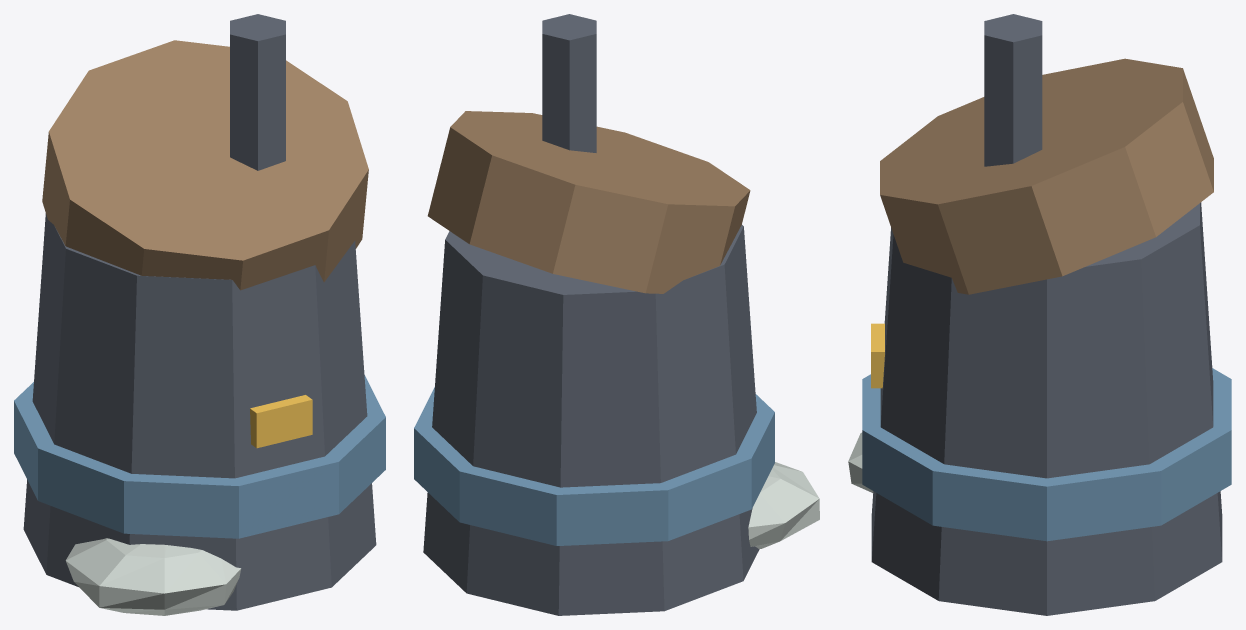
Rendered from sensor_housing.glb.
3 renders of one model, left to right at view 1: azimuth 30°, elevation 25°; view 2: azimuth 150°, elevation 25°; view 3: azimuth 270°, elevation 25°, orthographic. The views are drawn at different scales.
Visible parts, largest first — view 1: DL010_SensorHousing_metal_dark, DL010_SensorHousing_corrosion, DL010_SensorHousing_faded_blue, DL010_SensorHousing_mineral, DL010_SensorHousing_amber_accent; view 2: DL010_SensorHousing_metal_dark, DL010_SensorHousing_corrosion, DL010_SensorHousing_faded_blue, DL010_SensorHousing_mineral; view 3: DL010_SensorHousing_metal_dark, DL010_SensorHousing_corrosion, DL010_SensorHousing_faded_blue, DL010_SensorHousing_amber_accent, DL010_SensorHousing_mineral.
Boxes of the visible parts, x1,y1,x2,y2 form: DL010_SensorHousing_metal_dark: (23,14,376,610); DL010_SensorHousing_corrosion: (42,40,368,290); DL010_SensorHousing_faded_blue: (14,375,385,538); DL010_SensorHousing_mineral: (65,538,241,615); DL010_SensorHousing_amber_accent: (250,395,312,448); DL010_SensorHousing_metal_dark: (423,14,759,615); DL010_SensorHousing_corrosion: (427,111,750,293); DL010_SensorHousing_faded_blue: (414,387,774,545); DL010_SensorHousing_mineral: (748,462,819,549); DL010_SensorHousing_metal_dark: (871,14,1222,615); DL010_SensorHousing_corrosion: (880,58,1213,294); DL010_SensorHousing_faded_blue: (862,368,1231,541); DL010_SensorHousing_amber_accent: (871,323,884,388); DL010_SensorHousing_mineral: (848,432,873,492).
Size of the model in its own units: 1.18 by 1.77 by 1.14.
